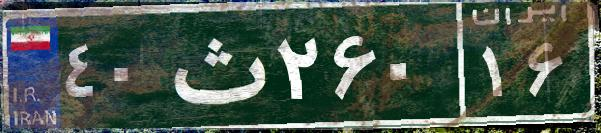0: (385, 28, 445, 110), (110, 28, 158, 105)
1: (475, 38, 525, 113)
2: (273, 28, 330, 110)
4: (57, 26, 110, 107)
6: (330, 28, 385, 110), (525, 38, 570, 115)
ث: (158, 15, 273, 115)
